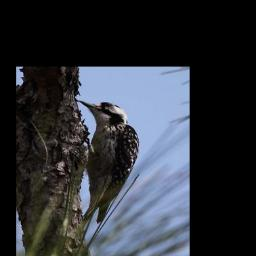Woodpecker: (71, 93, 146, 229)
